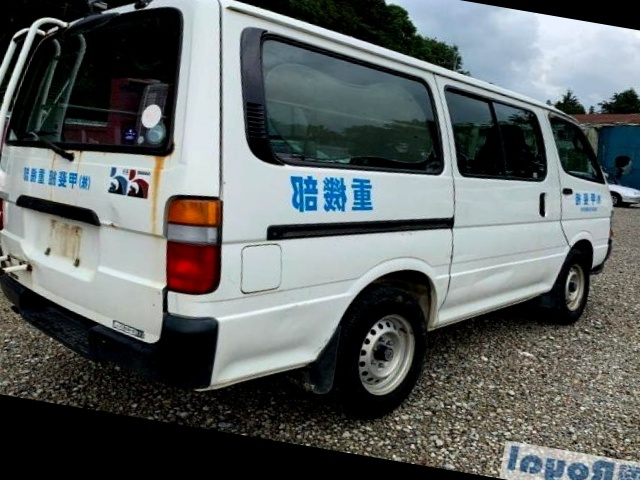van: (0, 0, 637, 449)
